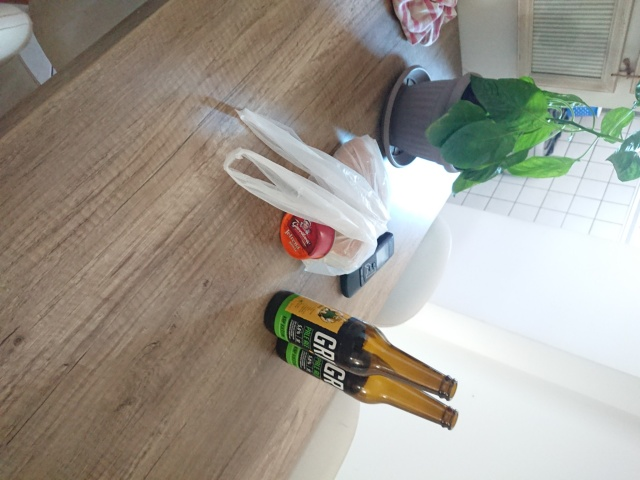Gavrilovic Pork Liver Pate 100g: (277, 203, 336, 261)
